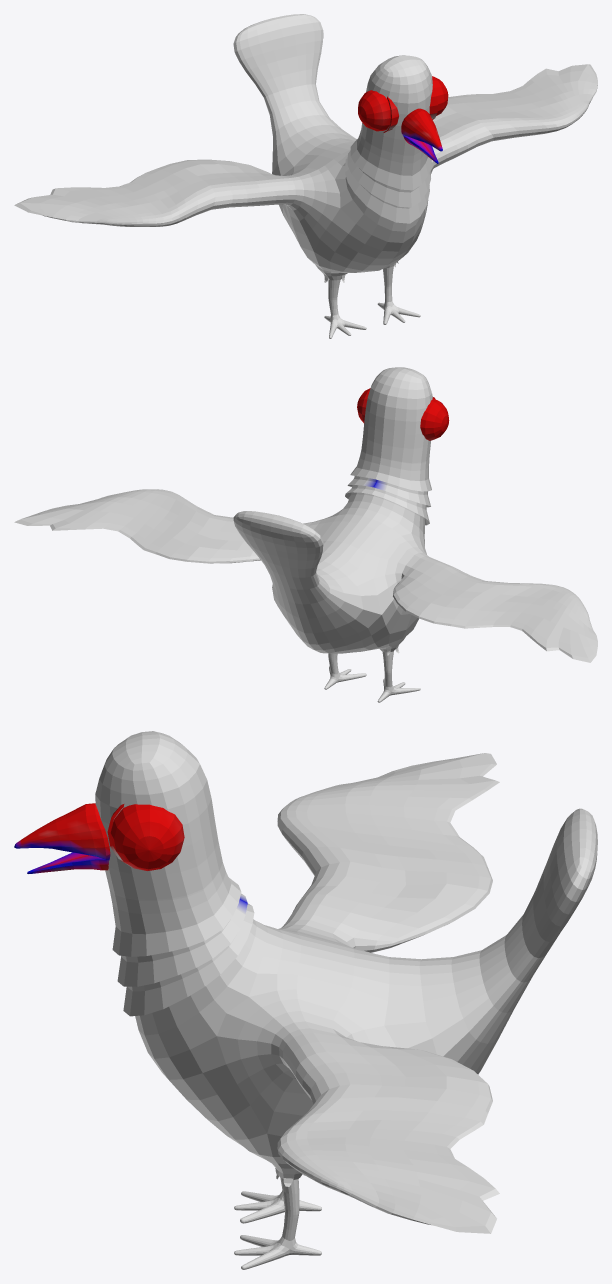
File: SM_Peep.fbx
3 views of the same model, one above another, from view 1: azimuth 30°, elevation 25°; view 2: azimuth 150°, elevation 25°; view 3: azimuth 270°, elevation 25° (orthographic). The views are drawn at different scales.
Parts seen in each view (by area): view 1: Body, NeckScruff, Feet, NeckScruff2, NeckScruff3, Beak, Right_Eye; view 2: Body, NeckScruff, Feet, Right_Eye, NeckScruff2, NeckScruff3; view 3: Body, NeckScruff, Beak, Left_Eye, Feet, NeckScruff3, NeckScruff2.
Boxes of the visible parts, x1,y1,x2,y2 form: Body: (14, 14, 597, 280); NeckScruff: (350, 130, 431, 190); Feet: (324, 266, 420, 338); NeckScruff2: (347, 150, 430, 207); NeckScruff3: (345, 156, 429, 223); Beak: (401, 108, 442, 163); Right_Eye: (358, 90, 390, 131); Body: (14, 367, 597, 662); NeckScruff: (350, 451, 431, 491); Feet: (324, 651, 420, 702); Right_Eye: (420, 398, 449, 440); NeckScruff2: (347, 476, 430, 507); NeckScruff3: (345, 485, 429, 525); Body: (95, 731, 597, 1233); NeckScruff: (109, 863, 241, 956); Beak: (14, 803, 110, 873); Left_Eye: (110, 804, 184, 870); Feet: (234, 1177, 321, 1269); NeckScruff3: (123, 903, 254, 1016); NeckScruff2: (117, 893, 247, 986).
Bounding box in the file's own units: 77.91 × 40.06 × 37.45.
